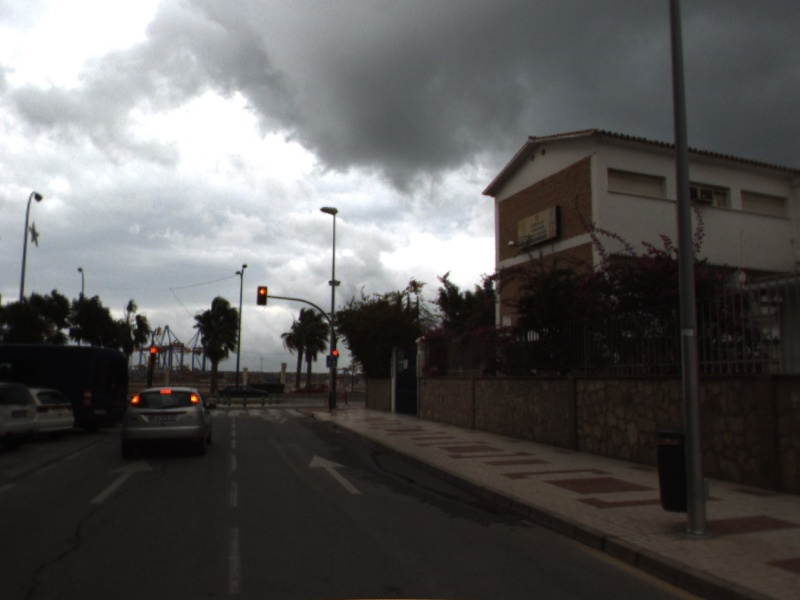STRAIGHT: (87, 456, 157, 505), (306, 453, 365, 497)
